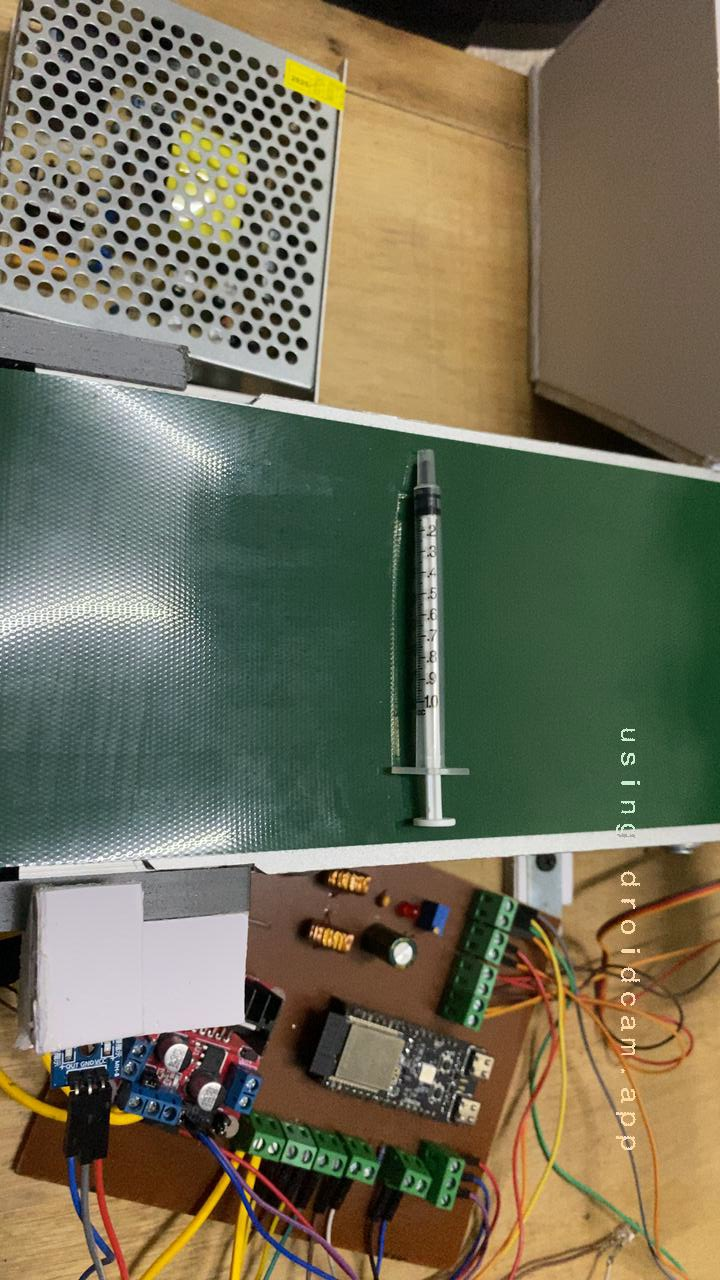syringe: (350, 459, 491, 851)
